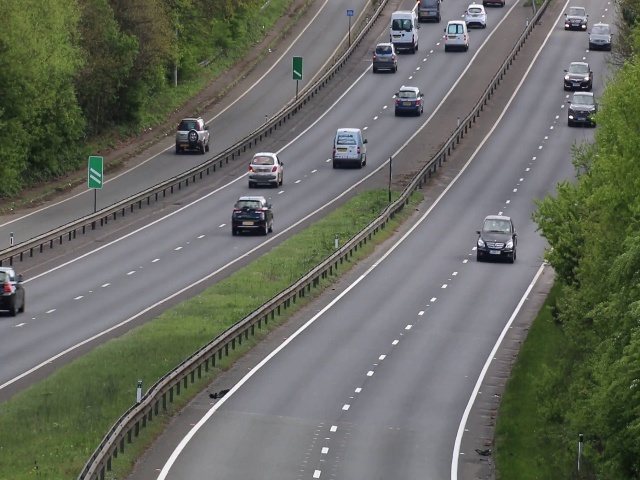car: (477, 214, 516, 263), (231, 194, 274, 238), (330, 126, 367, 168), (388, 9, 420, 54), (173, 117, 211, 153), (1, 266, 26, 317), (248, 152, 283, 188), (395, 84, 425, 118), (568, 91, 596, 127), (564, 62, 594, 91), (443, 20, 470, 51), (373, 42, 398, 73), (464, 2, 487, 29), (415, 1, 443, 22), (565, 6, 587, 31), (589, 24, 611, 49)
